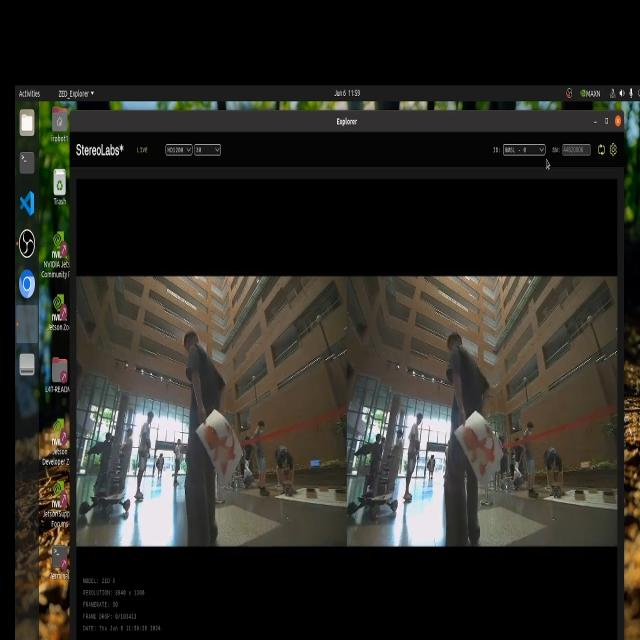red: (460, 411, 504, 482), (197, 413, 241, 473)
